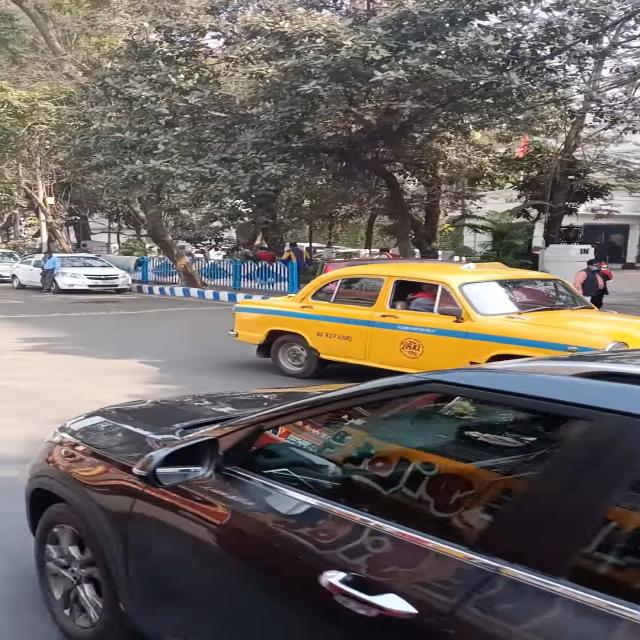Taxi: (226, 257, 640, 381)
